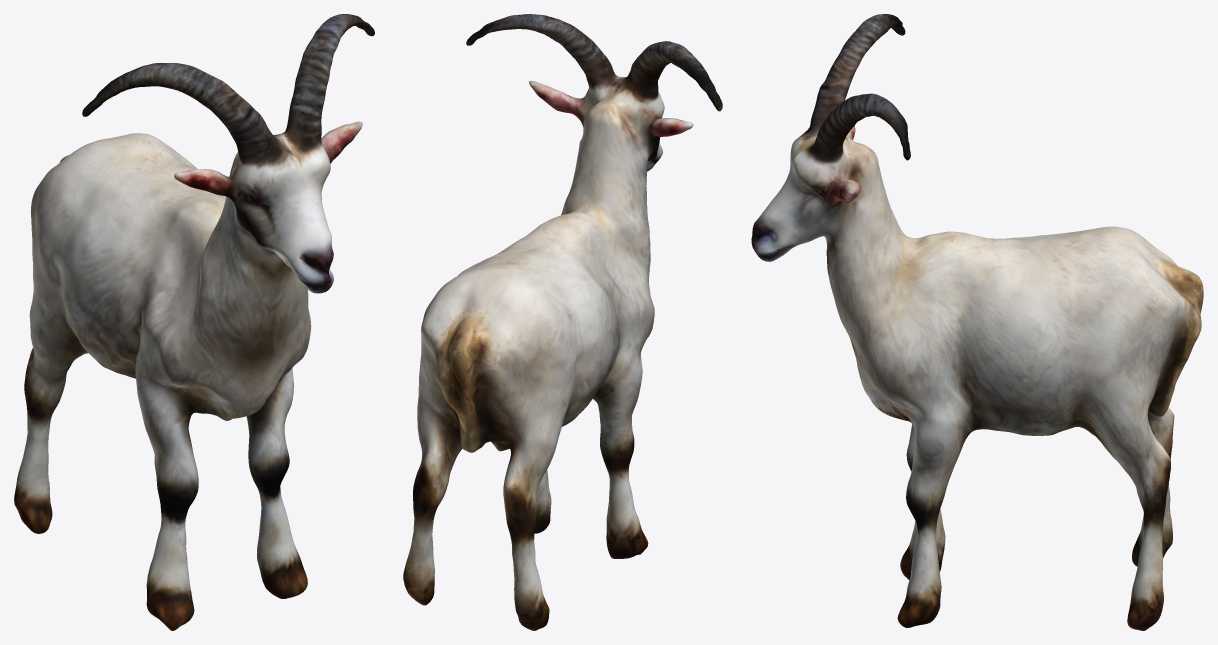
The model's file is Capricornus.glb.
The picture shows the model from 3 angles, left to right: view 1: azimuth 30°, elevation 25°; view 2: azimuth 150°, elevation 25°; view 3: azimuth 270°, elevation 25°; orthographic projection. The views are drawn at different scales.
Visible parts, largest first — view 1: white-goat_white-goat-001_0; view 2: white-goat_white-goat-001_0; view 3: white-goat_white-goat-001_0.
Boxes of the visible parts, bbox=[...] form: white-goat_white-goat-001_0: bbox=[14, 14, 374, 630]; white-goat_white-goat-001_0: bbox=[403, 14, 722, 630]; white-goat_white-goat-001_0: bbox=[751, 14, 1203, 630].
Size of the model in its own units: 1.03 by 1.97 by 1.48.
Materials: 1 (1 with a texture image).
